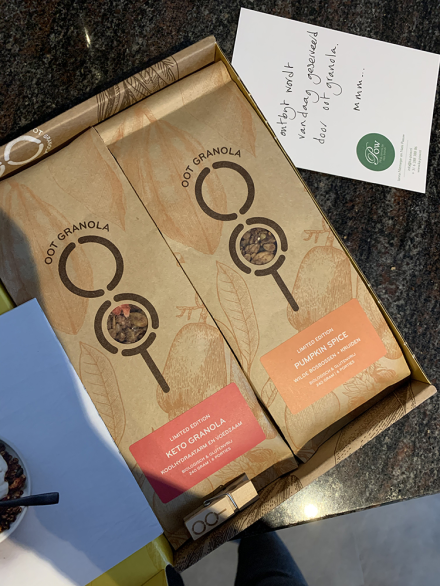KetoGranola: (128, 382, 279, 509)
